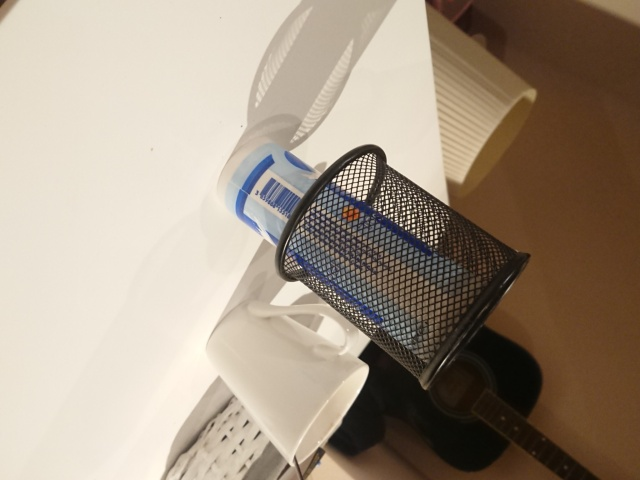Solana Pag Fine Sea Salt 250g: (214, 135, 498, 372)
